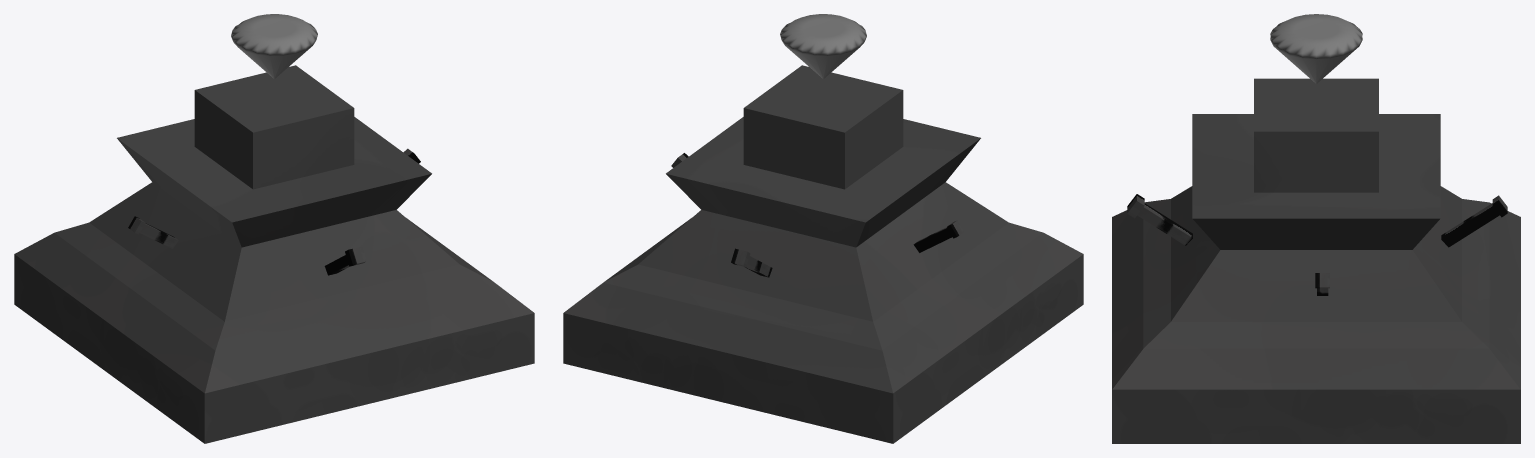
The model's file is shrine unity.fbx.
3 renders of one model, left to right at view 1: azimuth 30°, elevation 25°; view 2: azimuth 150°, elevation 25°; view 3: azimuth 270°, elevation 25°, orthographic. The views are drawn at different scales.
Visible parts, largest first — view 1: polySurface1, polySurface2; view 2: polySurface1, polySurface2; view 3: polySurface1, polySurface2.
Boxes of the visible parts, left/top/right/bottom form: polySurface1: left=14, top=65, right=534, bottom=443; polySurface2: left=231, top=14, right=317, bottom=78; polySurface1: left=563, top=65, right=1083, bottom=443; polySurface2: left=780, top=14, right=866, bottom=78; polySurface1: left=1112, top=78, right=1520, bottom=443; polySurface2: left=1270, top=14, right=1362, bottom=83.
Size of the model in its own units: 4.46 by 3.96 by 4.46.
Materials: 2 (1 with a texture image).
